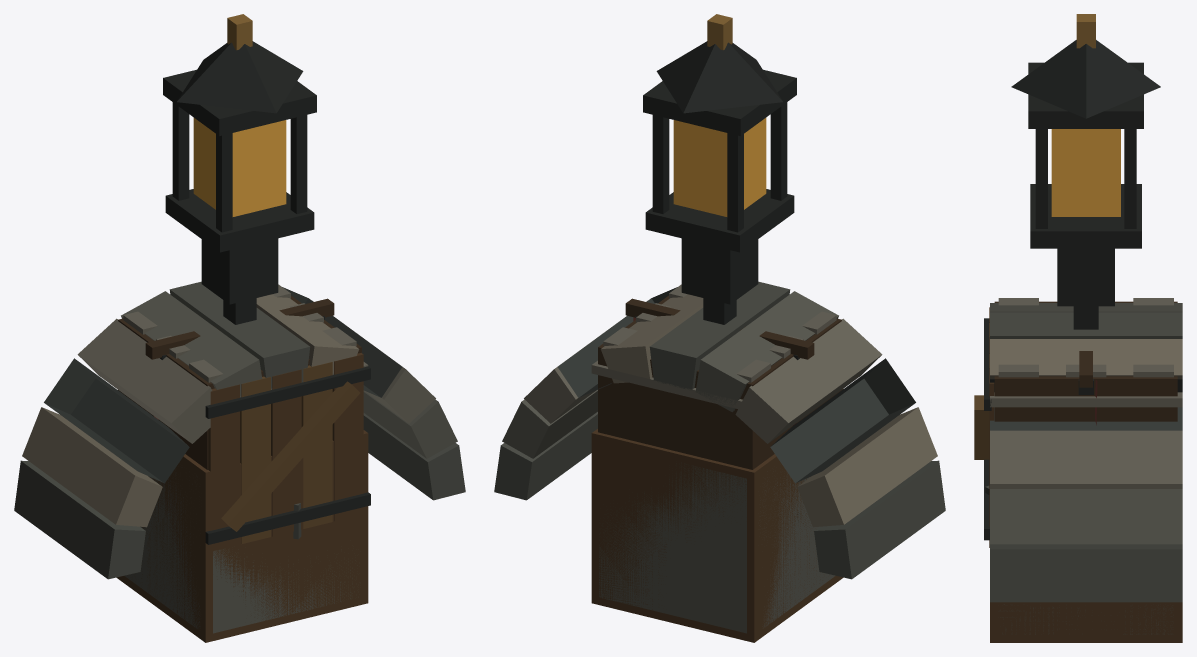
File: keep-kit.glb
The picture shows the model from 3 angles, left to right: view 1: azimuth 30°, elevation 25°; view 2: azimuth 150°, elevation 25°; view 3: azimuth 270°, elevation 25°; orthographic projection. The views are drawn at different scales.
Visible parts, largest first — view 1: arch, brazier, crate, timber, stone, tower, banner; view 2: arch, brazier, timber, stone, crate, tower, banner; view 3: arch, brazier, crate, timber, tower, banner.
Part boxes in pixels (bbox=[...]): arch: bbox=[14, 281, 465, 579]; brazier: bbox=[163, 14, 316, 324]; crate: bbox=[118, 295, 370, 551]; timber: bbox=[116, 430, 368, 642]; stone: bbox=[124, 462, 358, 633]; tower: bbox=[123, 284, 368, 404]; banner: bbox=[145, 298, 334, 419]; arch: bbox=[494, 281, 945, 579]; brazier: bbox=[643, 14, 796, 324]; timber: bbox=[591, 429, 843, 642]; stone: bbox=[599, 462, 835, 633]; crate: bbox=[598, 295, 843, 469]; tower: bbox=[591, 284, 836, 412]; banner: bbox=[625, 298, 814, 425]; arch: bbox=[990, 303, 1182, 602]; brazier: bbox=[1011, 14, 1160, 329]; crate: bbox=[974, 301, 1177, 547]; timber: bbox=[990, 602, 1182, 642]; tower: bbox=[990, 298, 1182, 407]; banner: bbox=[1079, 351, 1097, 425].
Bounding box in the file's own units: 2.2 × 3.35 × 1.08.
